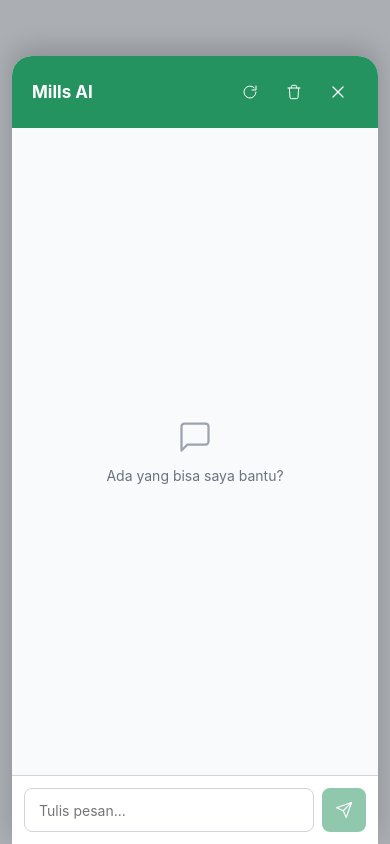
Scenario: AiAssistantPanel › loadHistory (Muat riwayat) › shows an error message when getConversationHistory rejects
Click the button with test id "ai-assistant-load-history". click: (250,92)
box: [230,72,270,112]
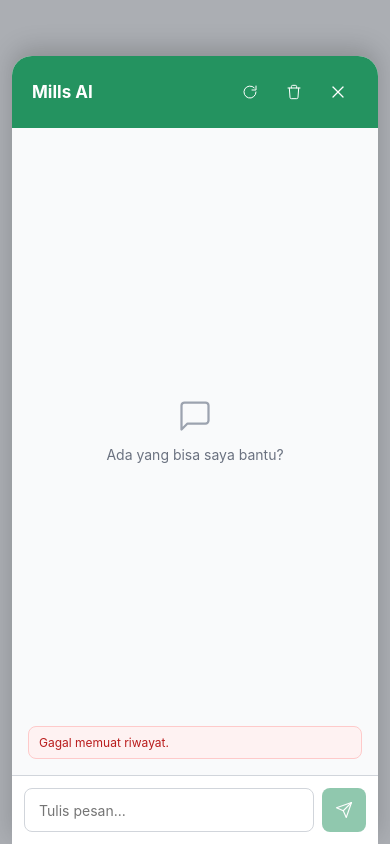
Check: the text with test id "ai-assistant-error" reads "Gagal memuat riwayat.", box [39,735,169,750]
